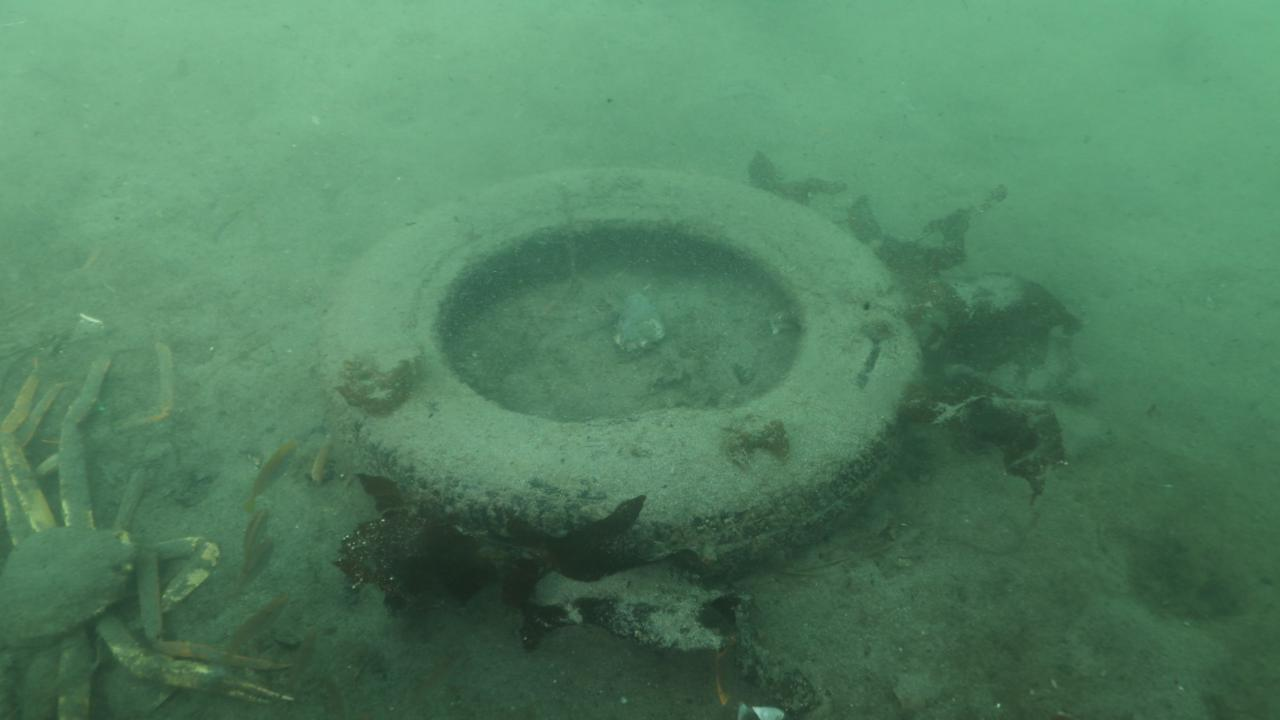tire: (321, 164, 920, 578)
